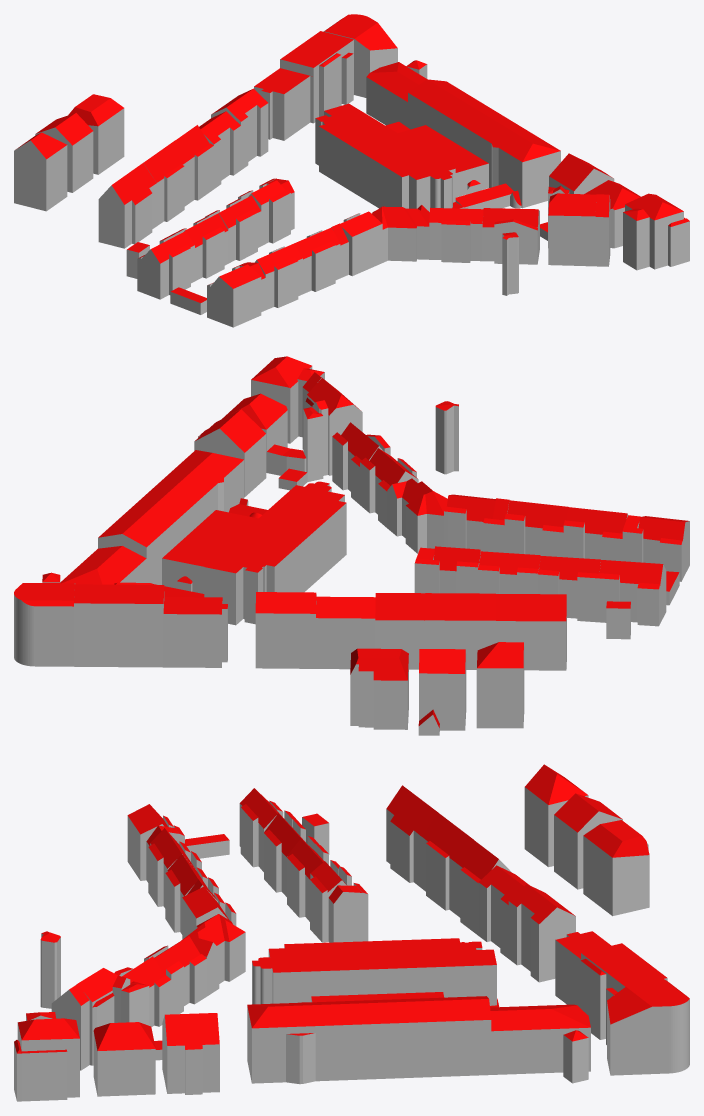
The picture shows the model from 3 angles, top to bottom: view 1: azimuth 30°, elevation 25°; view 2: azimuth 150°, elevation 25°; view 3: azimuth 270°, elevation 25°; orthographic projection. The views are drawn at different scales.
Size of the model in its own units: 158 by 22.57 by 172.
